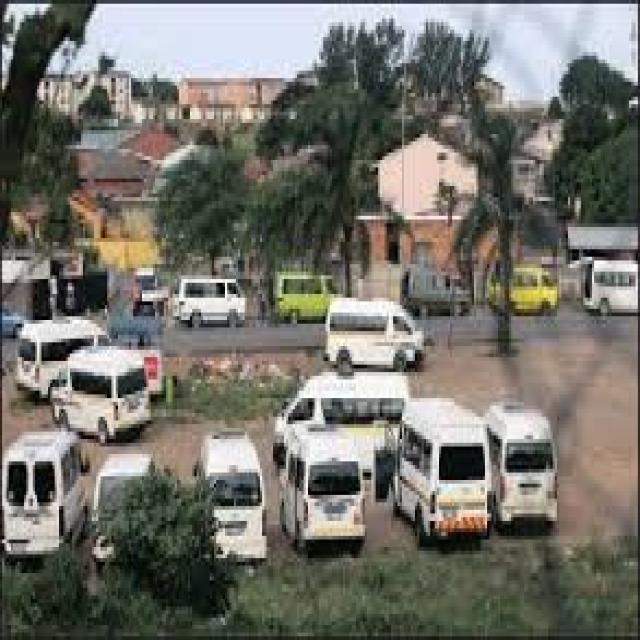MiniBus taxi: (396, 402, 492, 547), (280, 424, 360, 558), (492, 398, 564, 540), (52, 350, 158, 435), (321, 298, 426, 368), (177, 276, 247, 328)
